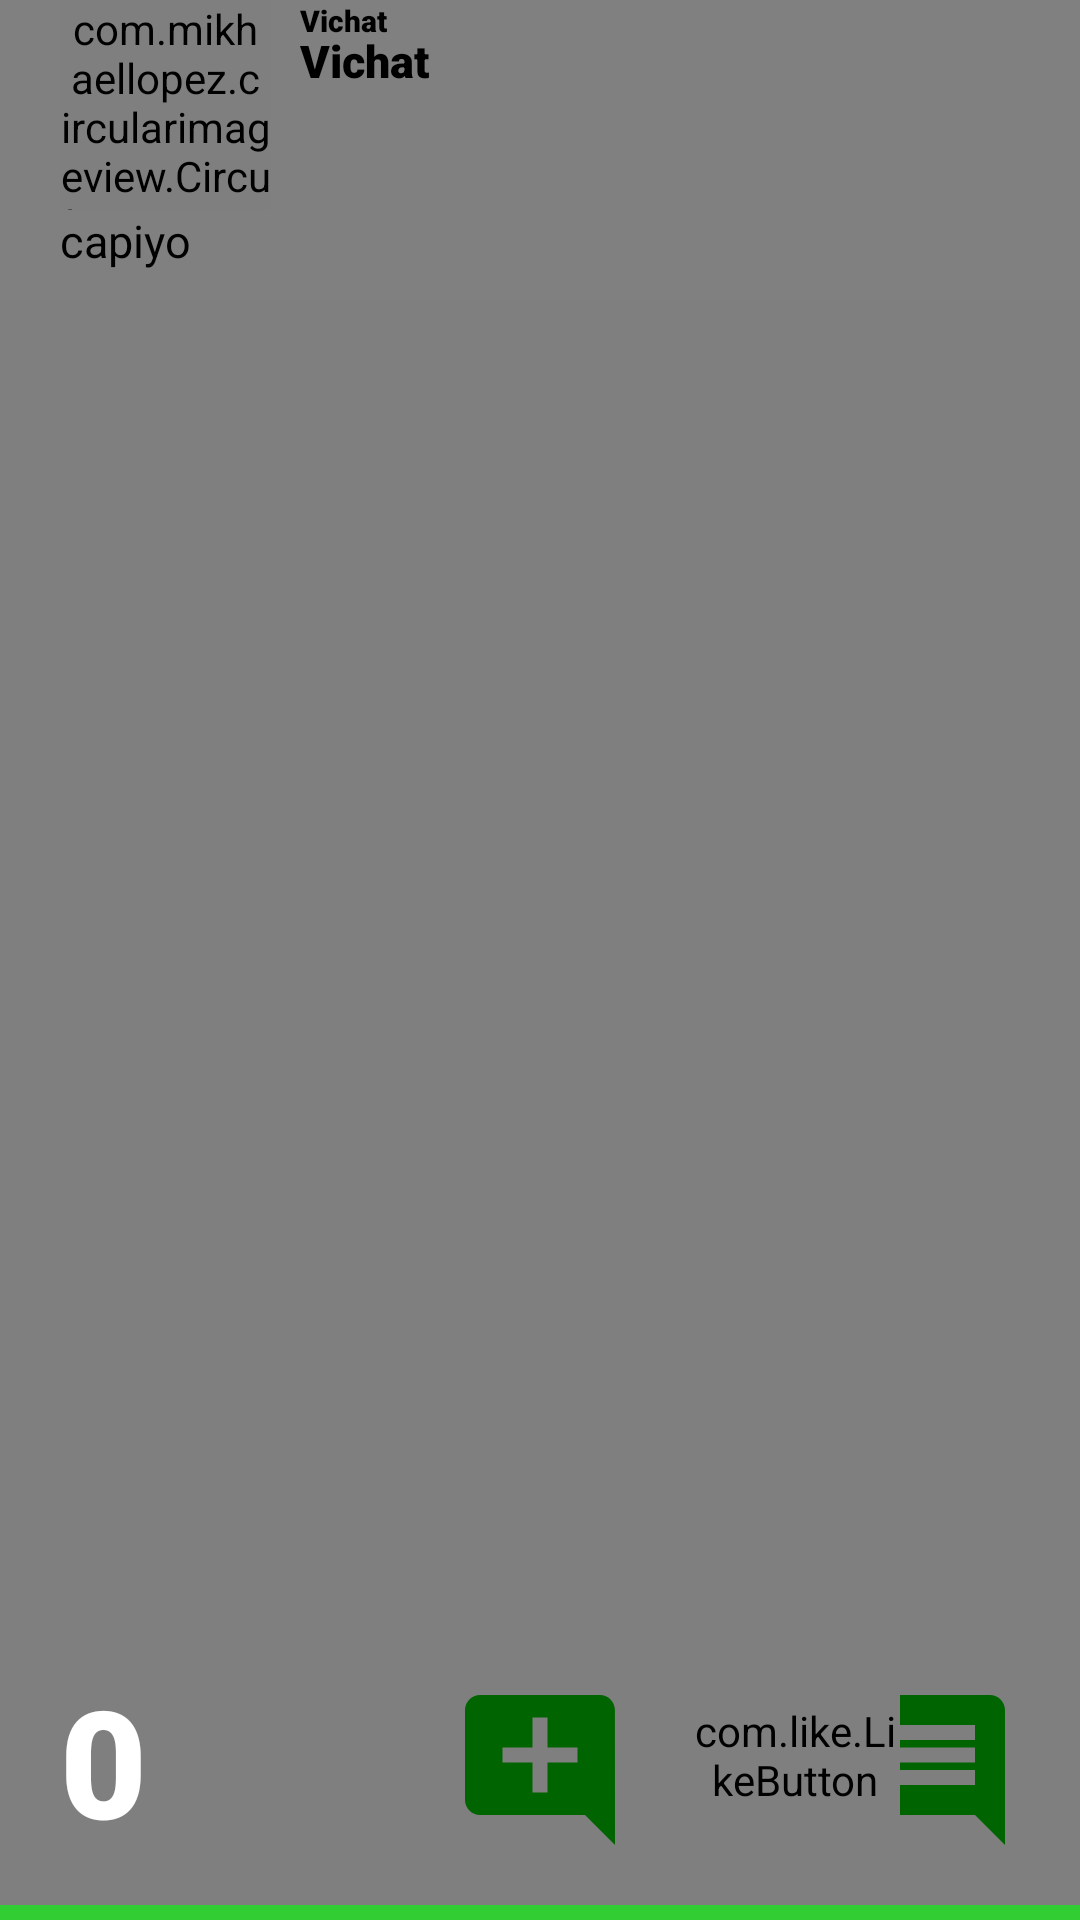

Where icons sit on this 1080px×1920px app screen, as (x1, y1, x2, y2):
add comment: (465, 1695, 615, 1845)
